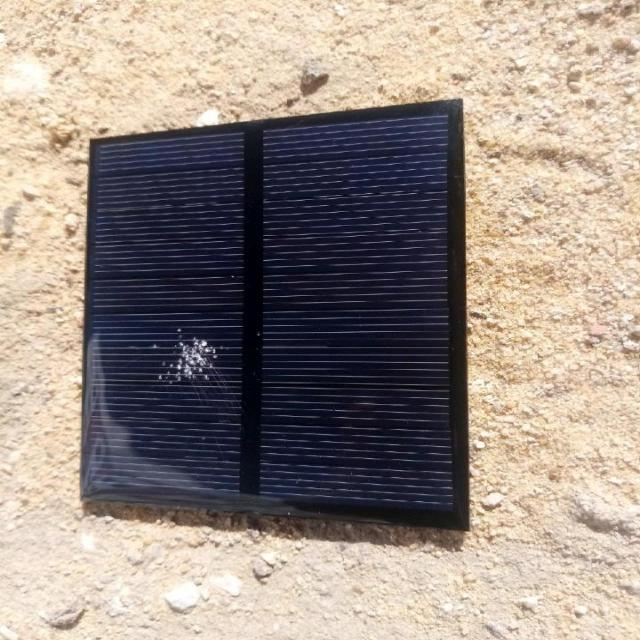faulty: (82, 133, 471, 535)
